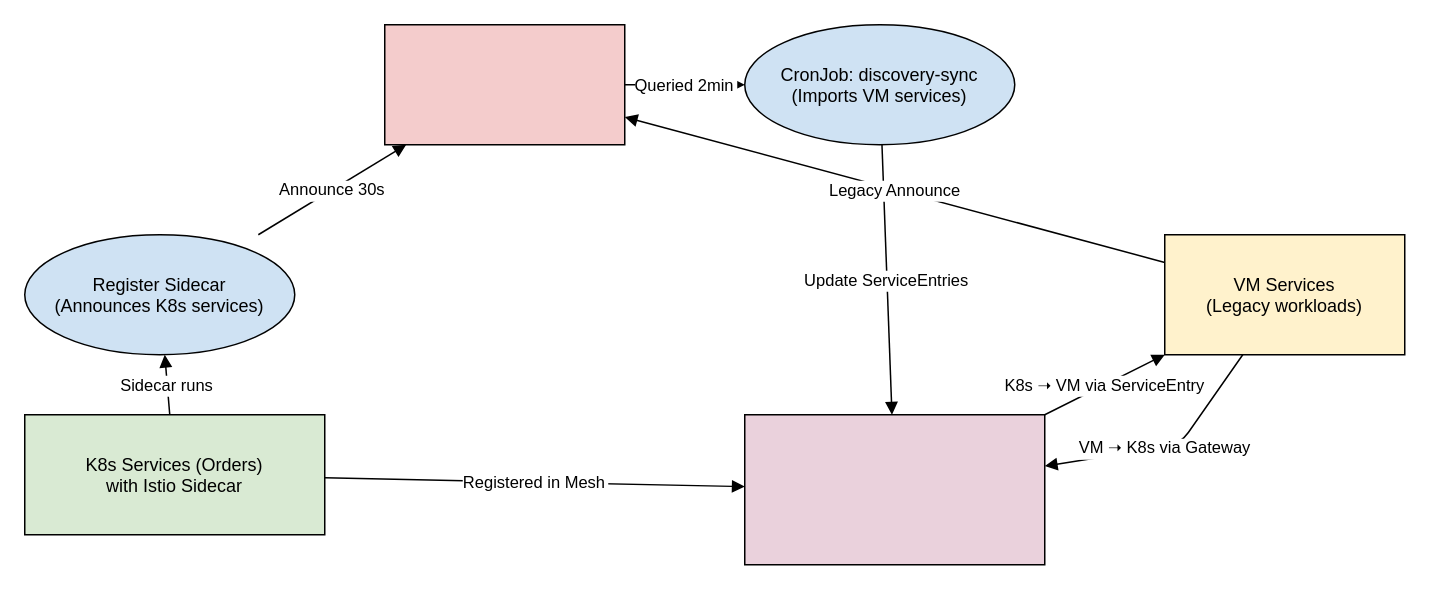
The diagram is 1430 pixels wide and 590 high, and some of its shapes have lost their labels. Here are the shapes that lost their labels. From the top down, the box of each, then its label:
(383, 23, 625, 145): Discovery Servers (Legacy Proofpoint)
(743, 413, 1045, 565): Istio Mesh (ServiceEntries + DR + GW)
